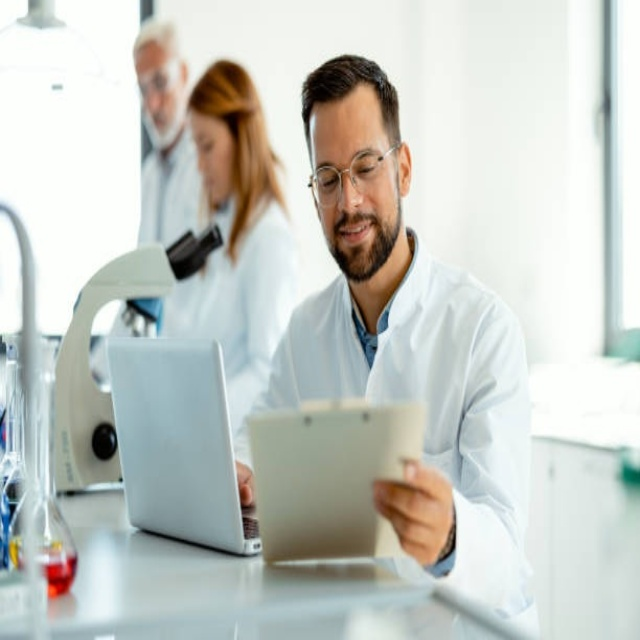Gafas: (307, 140, 398, 204)
Sin_guantes: (369, 453, 454, 571)
Sin_mascara: (330, 210, 383, 265)
